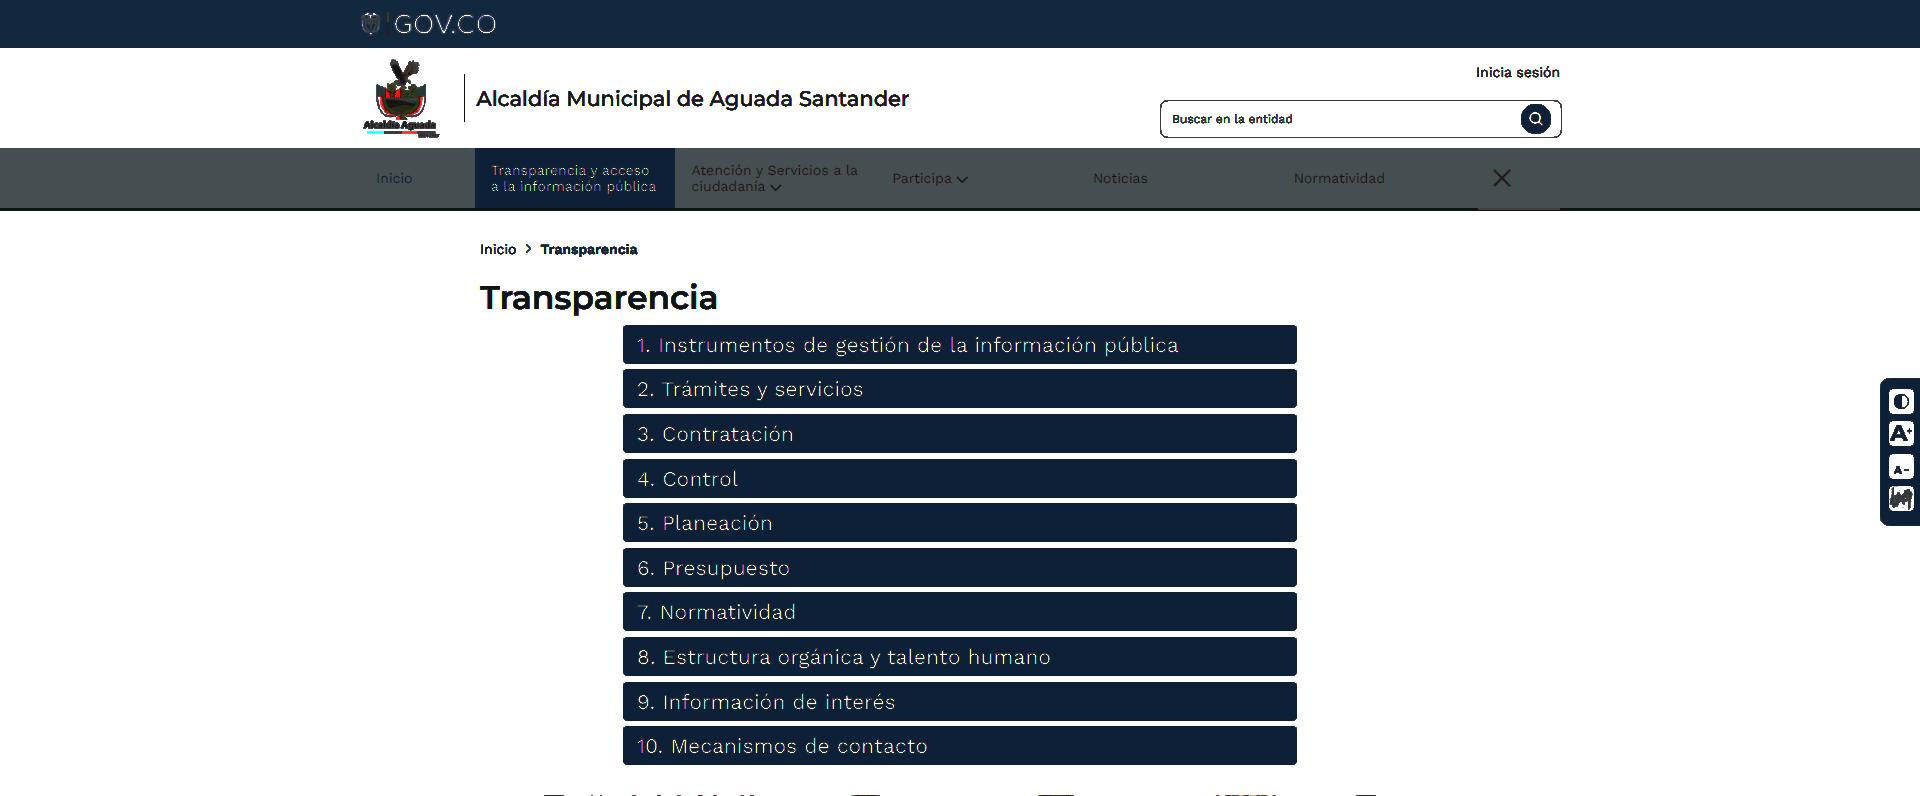banner entidades: (525, 787, 1397, 796)
barra accesibilidad: (1878, 378, 1920, 527)
barra govco: (352, 0, 1636, 52)
btn atencion ciudadano: (687, 160, 864, 194)
btn inicio: (370, 168, 417, 187)
btn inicio sesion: (1475, 61, 1563, 80)
btn normatividad: (656, 601, 801, 621), (1294, 169, 1388, 186)
btn noticias: (1089, 170, 1152, 186)
btn participa: (889, 168, 971, 186)
btn tramites: (658, 377, 865, 402)
menu principal: (363, 144, 1541, 202)
